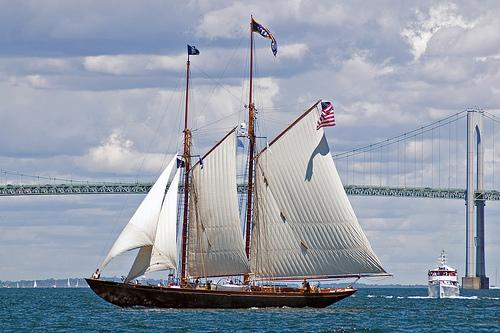Ship: (88, 15, 394, 311), (428, 250, 461, 299)
